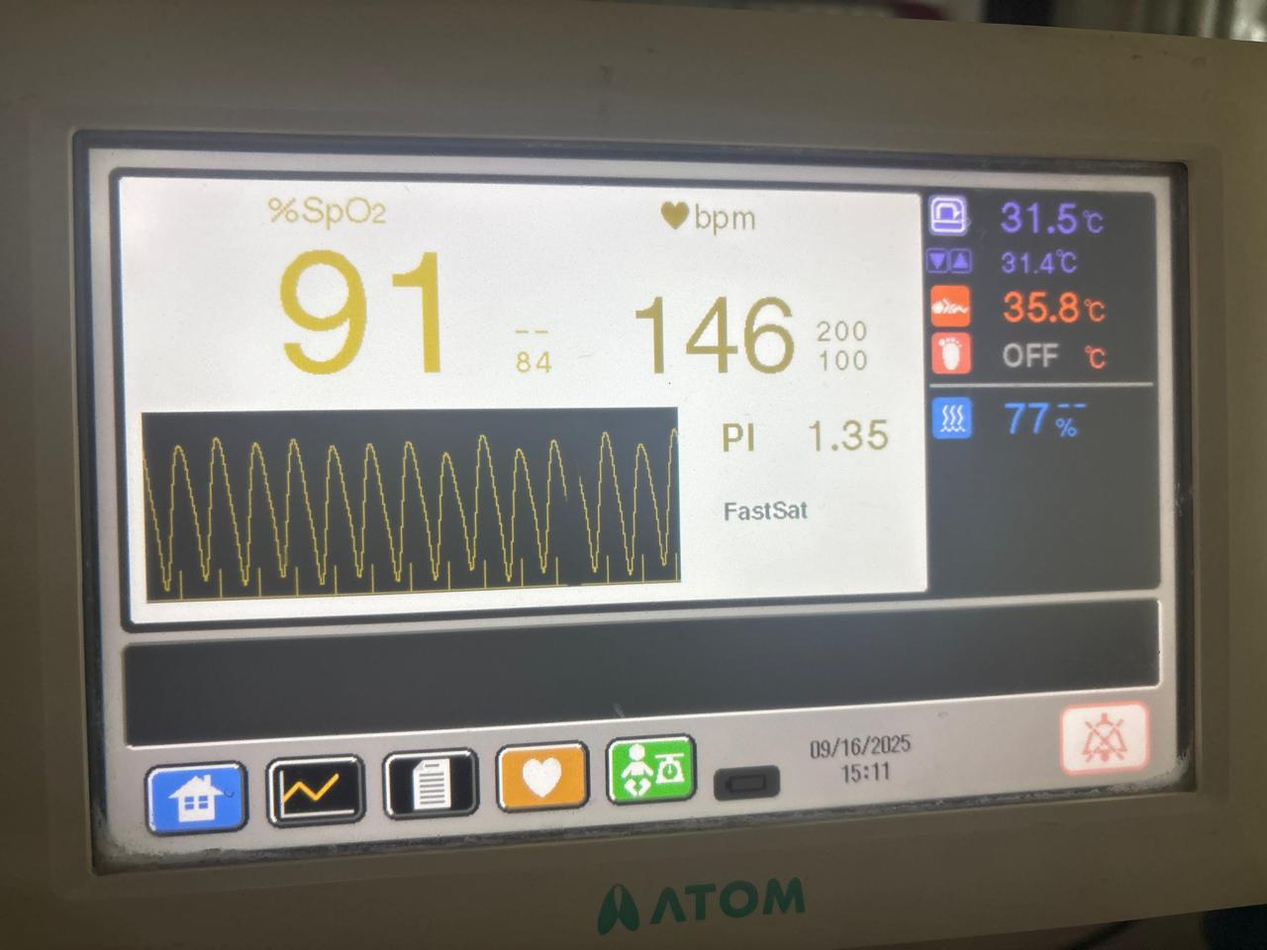air_temp_value: (985, 188, 1092, 242)
heart_rate_value: (621, 279, 803, 388)
humidity_value: (991, 391, 1054, 445)
skin_temp_value: (986, 282, 1084, 333)
spo2_value: (259, 243, 478, 394)
